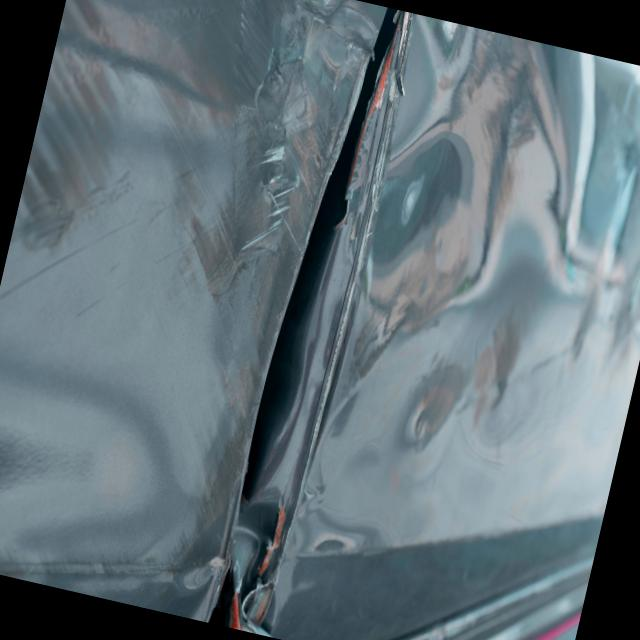Cabossage: (0, 232, 234, 611)
